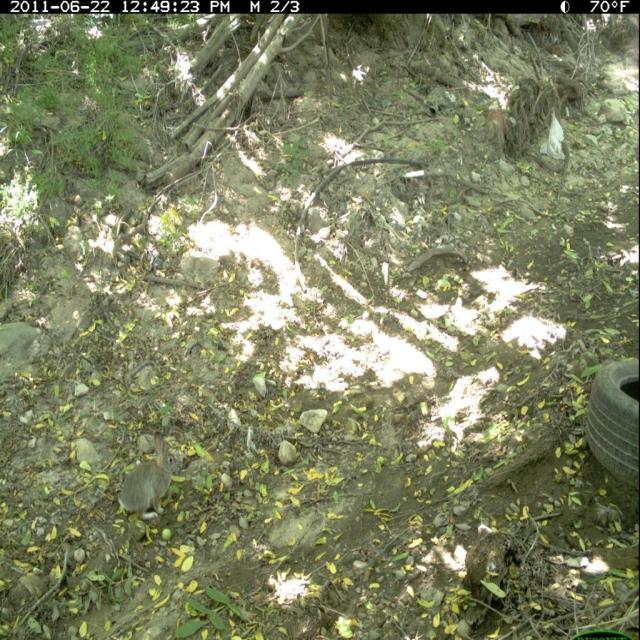rabbit: (115, 422, 184, 530)
